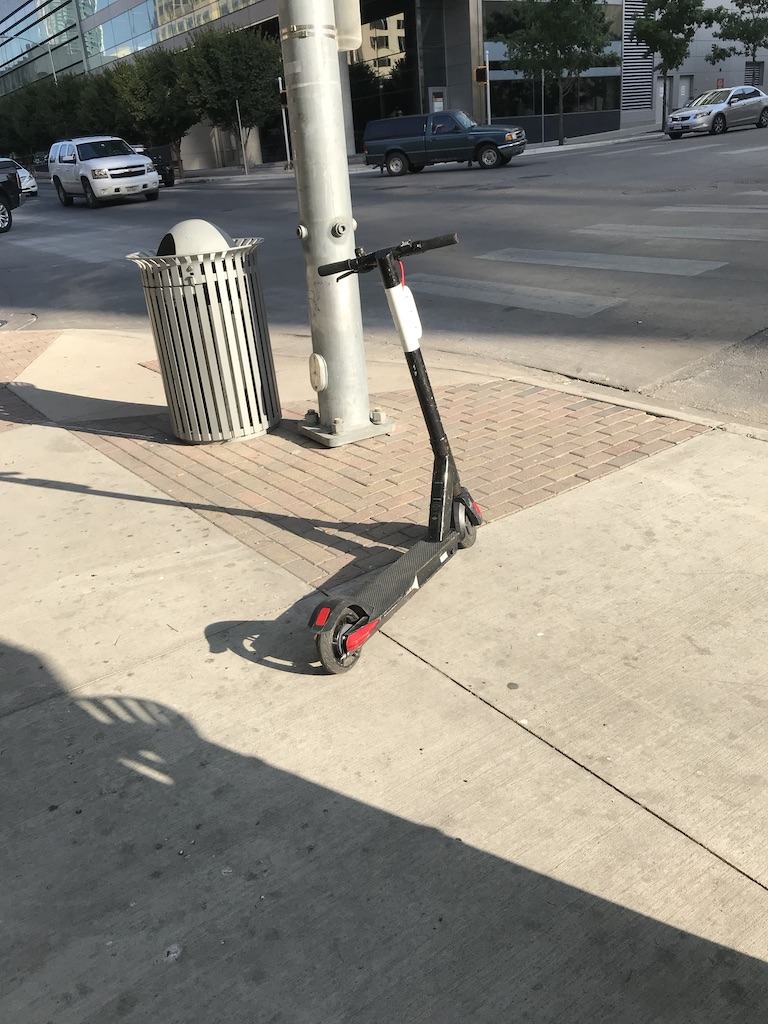scooter: (307, 233, 484, 676)
